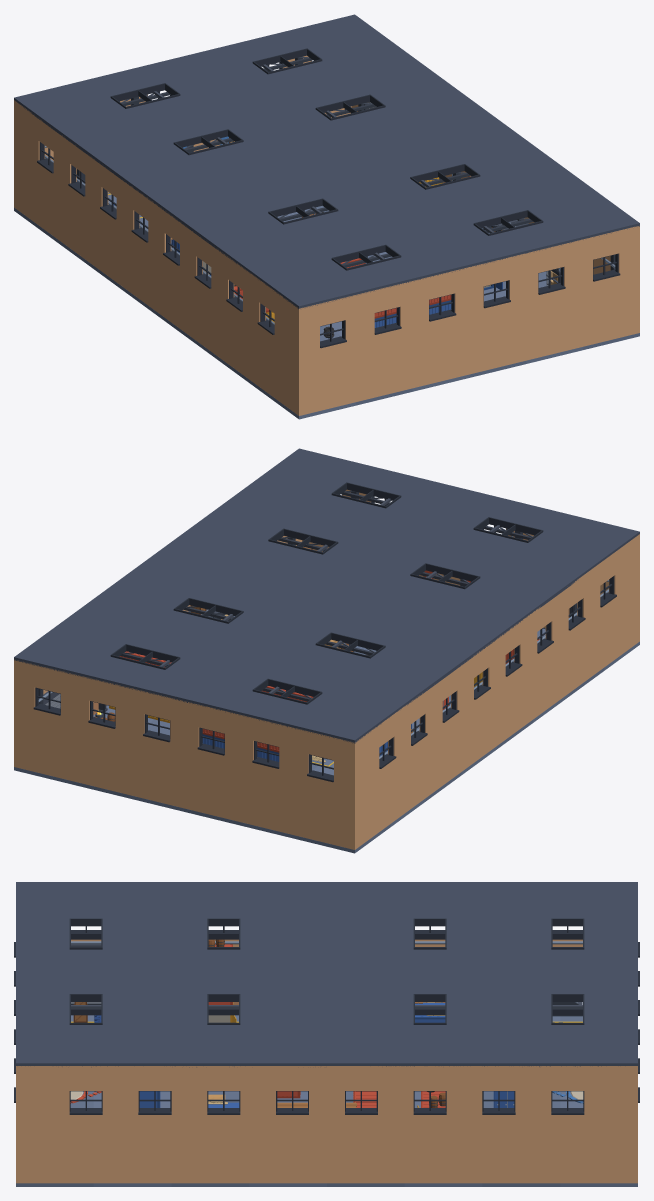
The model's file is magazynbl-SIL74HNG.glb.
The picture shows the model from 3 angles, top to bottom: view 1: azimuth 30°, elevation 25°; view 2: azimuth 150°, elevation 25°; view 3: azimuth 270°, elevation 25°; orthographic projection. The views are drawn at different scales.
Visible parts, largest first — view 1: Dach_ceiling, Hala_wall, Dach_frame, Hala_frame, Hala_floor, Hala_floor2, Dach_steel, Dach_steel2; view 2: Dach_ceiling, Hala_wall, Dach_frame, Hala_frame, Hala_floor2, Hala_floor, Dach_steel, Dach_steel2; view 3: Dach_ceiling, Hala_wall, Dach_frame, Hala_frame, Hala_floor, Hala_floor2, Hala_cBlue, Hala_cRed, Dach_steel2.
Boxes of the visible parts, x1=… form: Dach_ceiling: x1=14, y1=14, x2=639, y2=309; Hala_wall: x1=14, y1=55, x2=639, y2=415; Dach_frame: x1=110, y1=48, x2=543, y2=270; Hala_frame: x1=37, y1=62, x2=620, y2=348; Hala_floor: x1=49, y1=192, x2=583, y2=419; Hala_floor2: x1=14, y1=205, x2=639, y2=405; Dach_steel: x1=122, y1=58, x2=533, y2=267; Dach_steel2: x1=119, y1=56, x2=530, y2=264; Dach_ceiling: x1=14, y1=448, x2=639, y2=743; Hala_wall: x1=14, y1=489, x2=639, y2=849; Dach_frame: x1=110, y1=482, x2=543, y2=704; Hala_frame: x1=33, y1=496, x2=616, y2=782; Hala_floor2: x1=70, y1=616, x2=604, y2=853; Hala_floor: x1=14, y1=641, x2=639, y2=839; Dach_steel: x1=120, y1=492, x2=531, y2=701; Dach_steel2: x1=123, y1=490, x2=534, y2=698; Dach_ceiling: x1=16, y1=882, x2=637, y2=1067; Hala_wall: x1=16, y1=939, x2=637, y2=1183; Dach_frame: x1=69, y1=918, x2=584, y2=1024; Hala_frame: x1=14, y1=926, x2=639, y2=1114; Hala_floor: x1=71, y1=1015, x2=637, y2=1186; Hala_floor2: x1=16, y1=1015, x2=582, y2=1186; Hala_cBlue: x1=139, y1=1003, x2=514, y2=1107; Hala_cRed: x1=208, y1=944, x2=445, y2=1107; Dach_steel2: x1=71, y1=1005, x2=582, y2=1008.
Size of what is drawn, in the model's own units: 31.5 by 10.05 by 45.5.
Materials: 5 (5 with a texture image).
